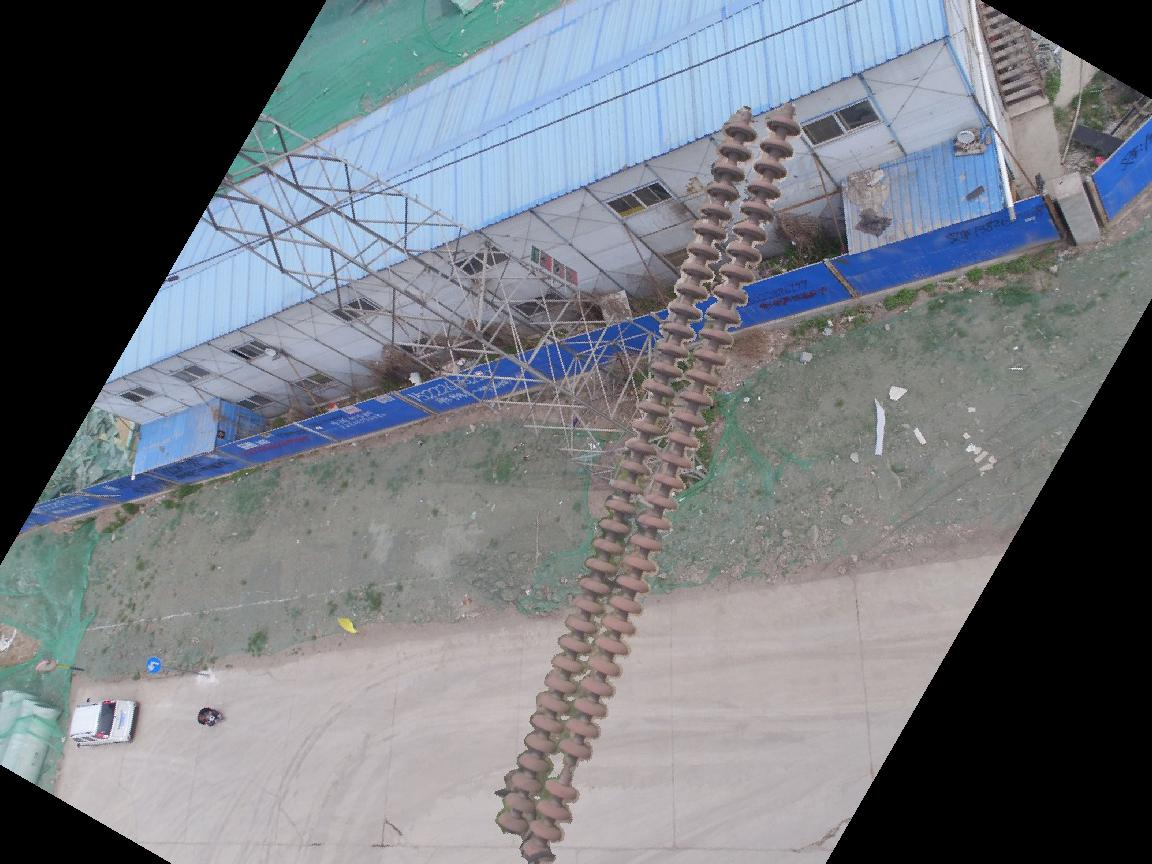insulator: (489, 104, 804, 860)
insulator_stringdrop: (541, 736, 597, 806)
